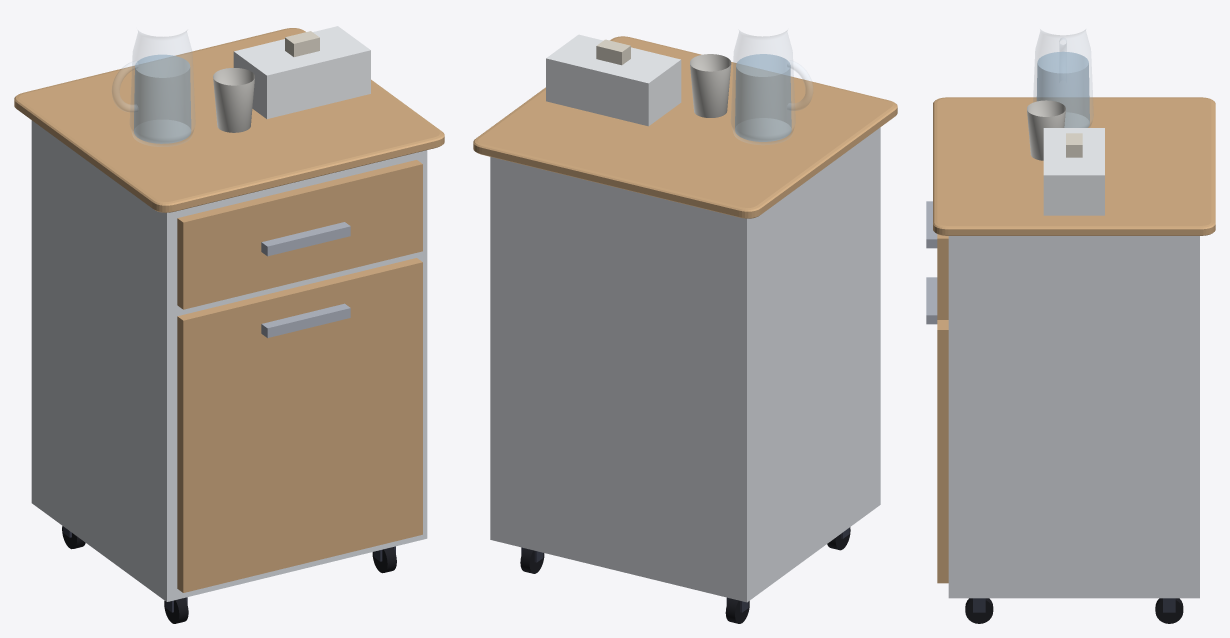
Rendered from hos-004.glb.
3 renders of one model, left to right at view 1: azimuth 30°, elevation 25°; view 2: azimuth 150°, elevation 25°; view 3: azimuth 270°, elevation 25°, orthographic. The views are drawn at different scales.
Visible parts, largest first — view 1: beech, bed_frame, white, glass_clear, liquid_water, steel, ceramic_white, rubber, paper; view 2: bed_frame, beech, white, glass_clear, liquid_water, ceramic_white, rubber, paper; view 3: bed_frame, beech, white, glass_clear, liquid_water, ceramic_white, steel, rubber, paper.
Part boxes in pixels (<box>): beech: <box>14,28,444,592</box>; bed_frame: <box>31,120,427,601</box>; white: <box>233,26,370,118</box>; glass_clear: <box>112,31,194,146</box>; liquid_water: <box>133,54,191,143</box>; steel: <box>261,222,350,337</box>; ceramic_white: <box>213,68,254,132</box>; rubber: <box>62,526,396,623</box>; paper: <box>285,31,319,56</box>; bed_frame: <box>490,127,880,602</box>; beech: <box>473,36,897,218</box>; white: <box>546,34,681,126</box>; glass_clear: <box>731,30,812,144</box>; liquid_water: <box>735,54,791,141</box>; ceramic_white: <box>690,54,731,117</box>; rubber: <box>520,527,850,623</box>; paper: <box>596,39,630,65</box>; bed_frame: <box>948,236,1199,598</box>; beech: <box>933,97,1215,583</box>; white: <box>1043,128,1104,215</box>; glass_clear: <box>1033,29,1093,127</box>; liquid_water: <box>1036,51,1089,127</box>; ceramic_white: <box>1027,100,1065,160</box>; steel: <box>926,201,937,324</box>; rubber: <box>965,598,1183,623</box>; paper: <box>1066,133,1082,157</box>.
Size of the model in its own units: 0.556 by 1.02 by 0.518.
